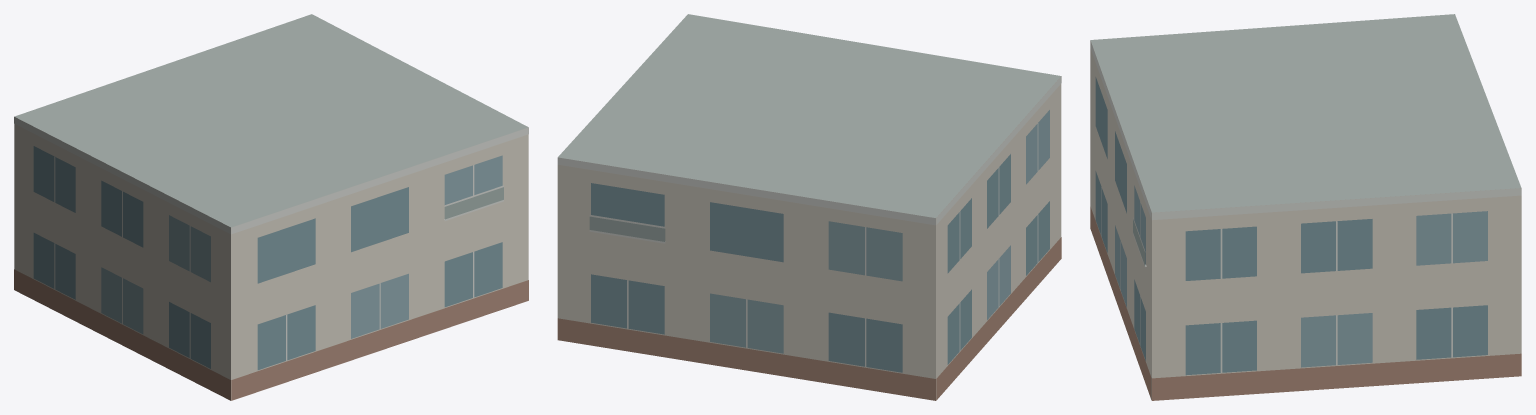
The model's file is survey-upis-32656427.glb.
3 views of the same model, side by side, from view 1: azimuth 30°, elevation 25°; view 2: azimuth 150°, elevation 25°; view 3: azimuth 270°, elevation 25° (orthographic). The views are drawn at different scales.
Visible parts, largest first — view 1: survey-upis-32656427.tmp; view 2: survey-upis-32656427.tmp; view 3: survey-upis-32656427.tmp.
Part boxes in pixels (<box>): survey-upis-32656427.tmp: <box>14,14,528,400</box>; survey-upis-32656427.tmp: <box>557,14,1061,400</box>; survey-upis-32656427.tmp: <box>1090,14,1521,400</box>.
Size of the model in its own units: 13.82 by 6.1 by 12.68.
